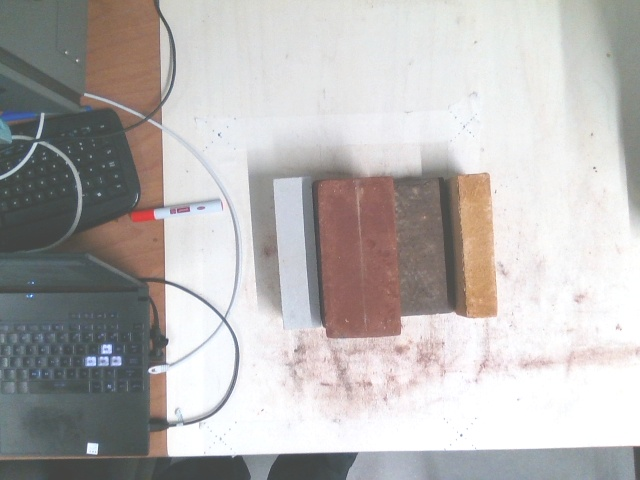brick: (319, 179, 400, 339), (394, 175, 456, 315)
brick-side: (272, 177, 318, 333), (458, 171, 499, 319)
